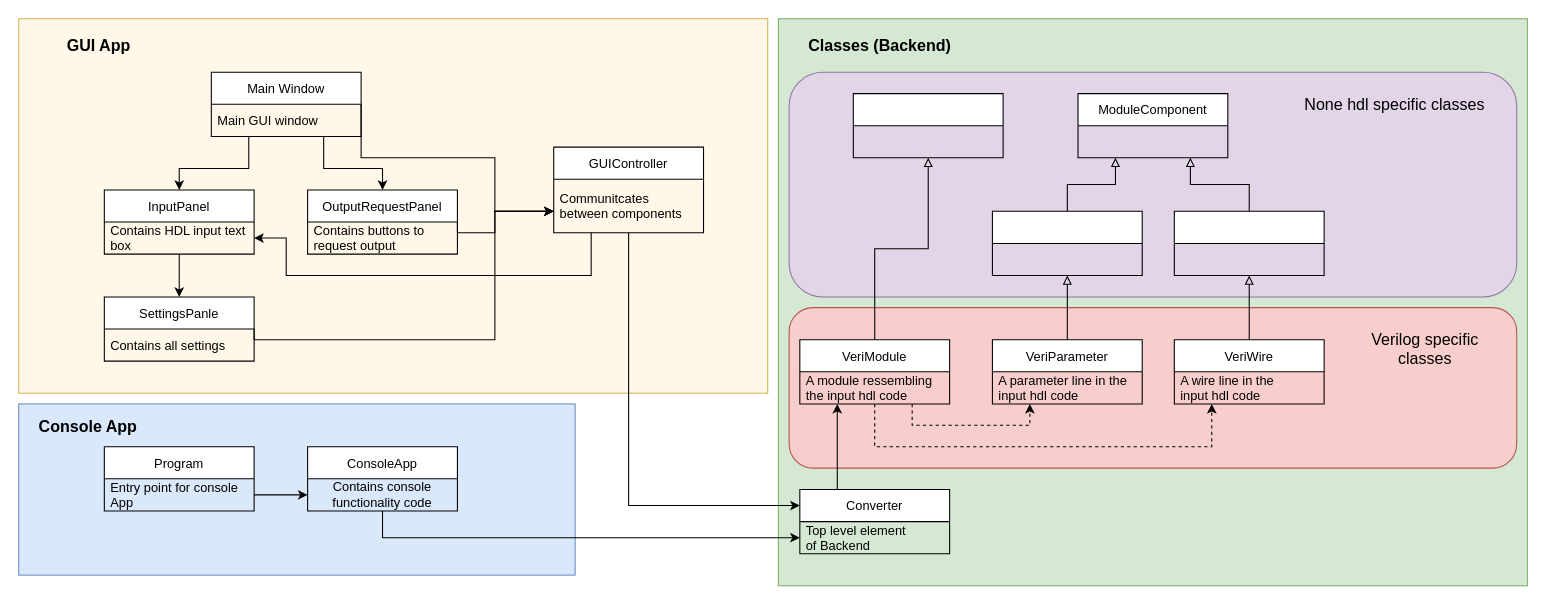
Some shapes in this 1546 by 605 pixel diagram are drawn without their labels. The shapes that lost their labels are listed below. From the top down, each one's centre as x and y in pixels, then its label:
the point at 927,125: HDLModule
the point at 1066,243: Parameter
the point at 1248,243: Wire
